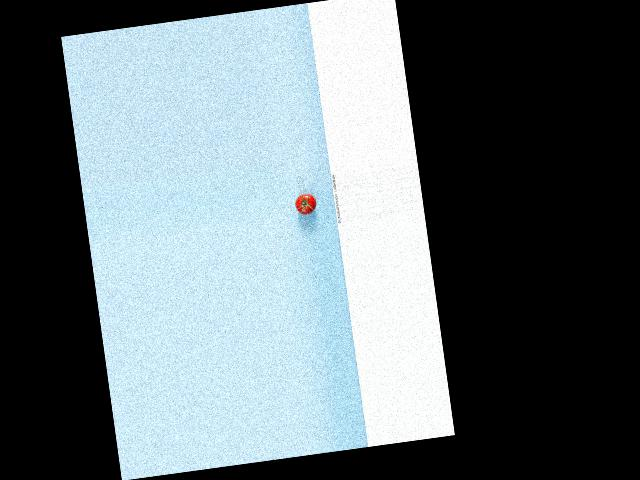tomato: (294, 192, 318, 215)
